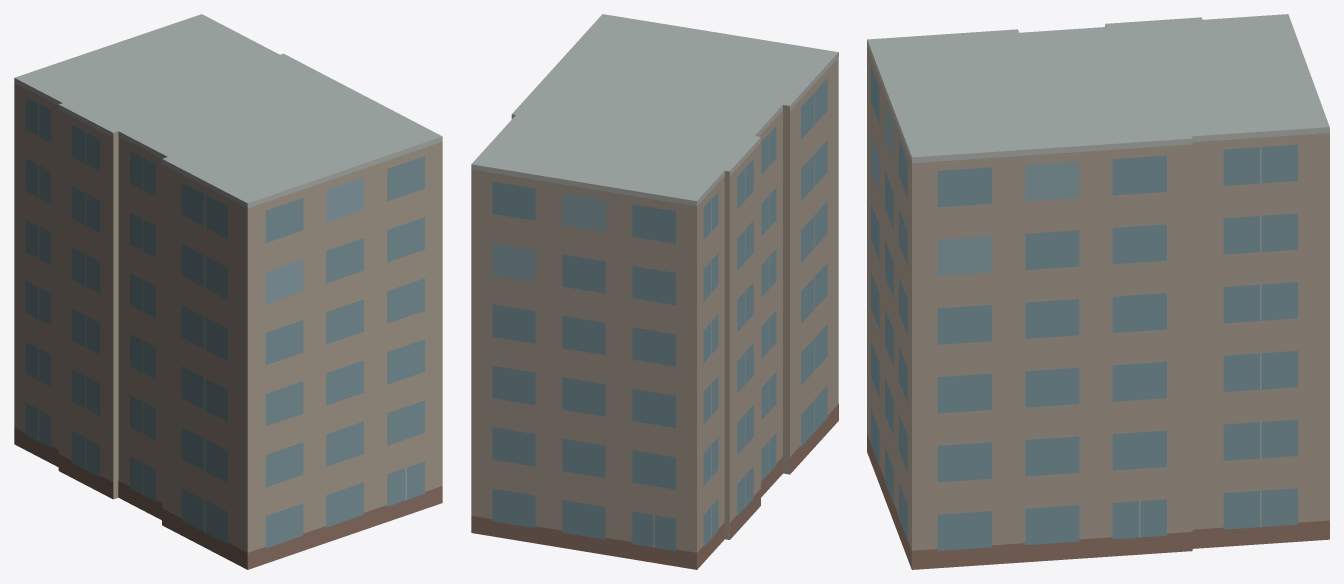
File: survey-upis-32958564.glb
3 views of the same model, side by side, from view 1: azimuth 30°, elevation 25°; view 2: azimuth 150°, elevation 25°; view 3: azimuth 270°, elevation 25° (orthographic). The views are drawn at different scales.
Visible parts, largest first — view 1: survey-upis-32958564.tmp; view 2: survey-upis-32958564.tmp; view 3: survey-upis-32958564.tmp.
Part boxes in pixels (x1=…): survey-upis-32958564.tmp: x1=14, y1=14, x2=442, y2=569; survey-upis-32958564.tmp: x1=471, y1=14, x2=838, y2=569; survey-upis-32958564.tmp: x1=867, y1=14, x2=1329, y2=569.
Size of the model in its own units: 12.99 by 17.4 by 17.7.
